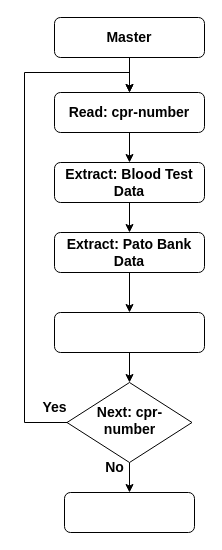
Some shapes in this 222 by 550 pixel diagram are drawn without their labels. The shapes that lost their labels are listed below. From the top down, each one's centre as x and y in pixels, then its label:
At [129,332]: "Extract: ............. Data".
At [129,512]: "Done".
